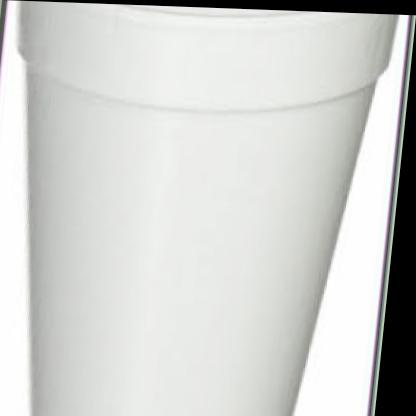Plastic: (0, 2, 403, 416)
